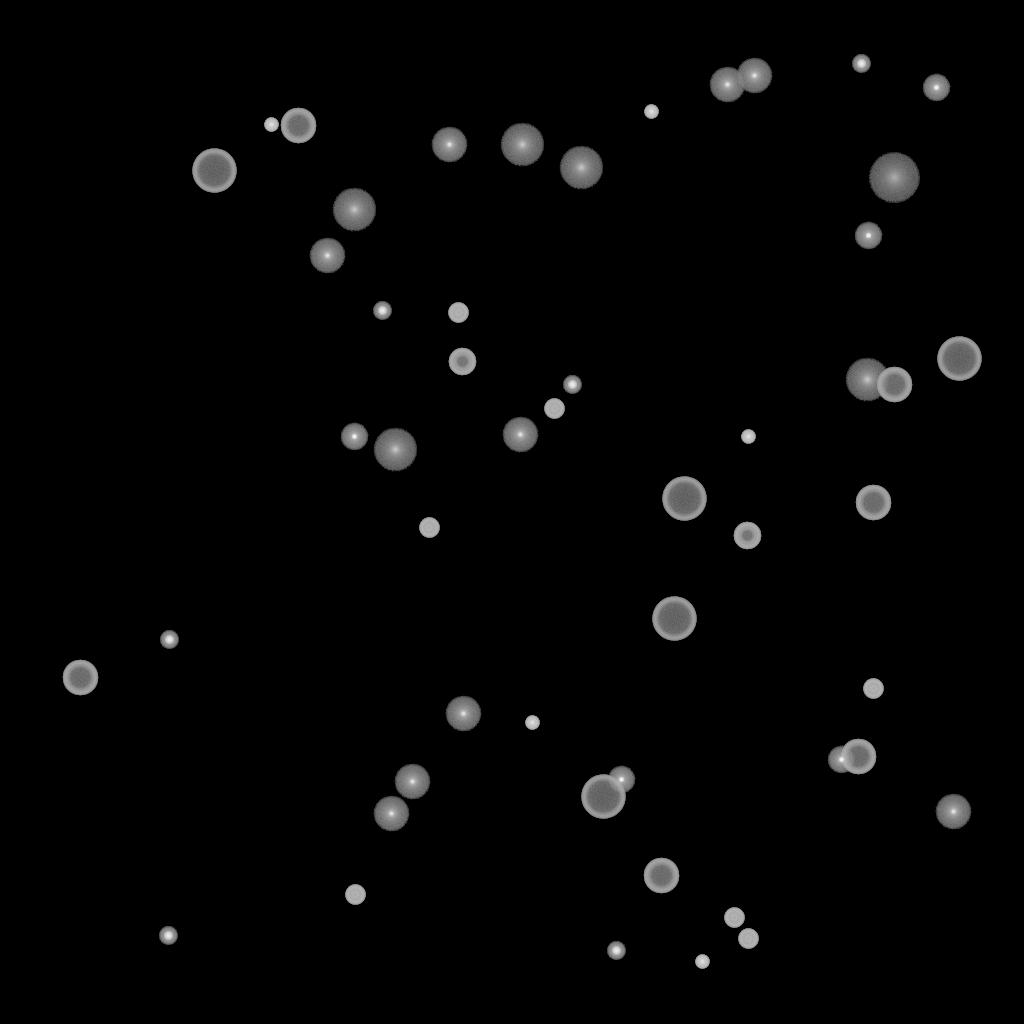depth:-10: (854, 222, 882, 250), (922, 74, 950, 102), (827, 746, 855, 774), (607, 766, 635, 794), (340, 423, 368, 451)
depth:-20: (563, 376, 581, 394), (160, 631, 178, 649), (373, 302, 391, 320), (852, 55, 870, 73), (607, 942, 625, 960), (159, 927, 177, 945)
depth:-30: (741, 430, 755, 444), (264, 118, 278, 132), (644, 105, 658, 119), (695, 955, 709, 969), (525, 716, 539, 730)
depth:-40: (448, 303, 468, 323), (724, 908, 744, 928), (419, 518, 439, 538), (863, 679, 883, 699), (544, 399, 564, 419), (345, 885, 365, 905), (738, 929, 758, 949)
depth:-50: (733, 522, 761, 550), (448, 348, 476, 376)
depth:-60: (840, 739, 876, 775), (876, 367, 912, 403), (280, 108, 316, 144), (855, 485, 891, 521), (643, 858, 679, 894), (62, 660, 98, 696)
depth:-70: (662, 477, 706, 521), (937, 337, 981, 381), (652, 597, 696, 641), (192, 149, 236, 193), (581, 775, 625, 819)
depth:0: (709, 67, 745, 103), (445, 696, 481, 732), (431, 127, 467, 163), (373, 796, 409, 832), (309, 238, 345, 274), (935, 794, 971, 830), (736, 58, 772, 94), (502, 417, 538, 453), (394, 764, 430, 800)
depth:10: (559, 146, 603, 190), (845, 358, 889, 402), (332, 188, 376, 232), (373, 428, 417, 472), (500, 123, 544, 167)
depth:20: (868, 153, 920, 203)
